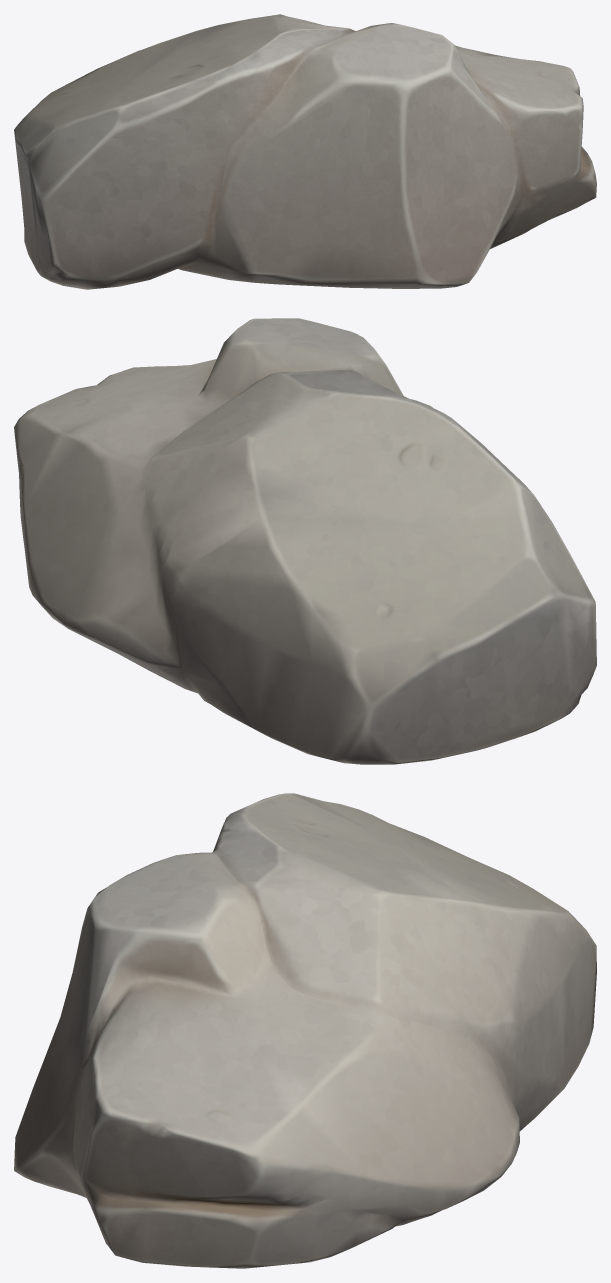
The model's file is Rock4.glb.
3 views of the same model, one above another, from view 1: azimuth 30°, elevation 25°; view 2: azimuth 150°, elevation 25°; view 3: azimuth 270°, elevation 25° (orthographic). The views are drawn at different scales.
Parts seen in each view (by area): view 1: SM_Rocks_03; view 2: SM_Rocks_03; view 3: SM_Rocks_03.
Boxes of the visible parts, bbox=[...] form: SM_Rocks_03: bbox=[14, 14, 596, 289]; SM_Rocks_03: bbox=[14, 318, 596, 764]; SM_Rocks_03: bbox=[14, 793, 596, 1268].
Bounding box in the file's own units: 2.18 × 0.8878 × 1.61.
Materials: 1 (1 with a texture image).
